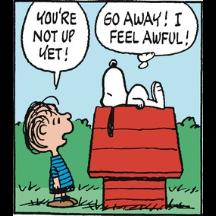charlie: (100, 58, 166, 138)
